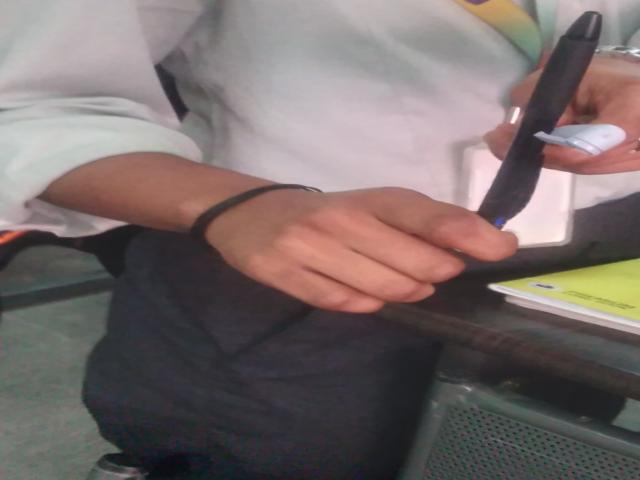PEN: (475, 1, 612, 235)
